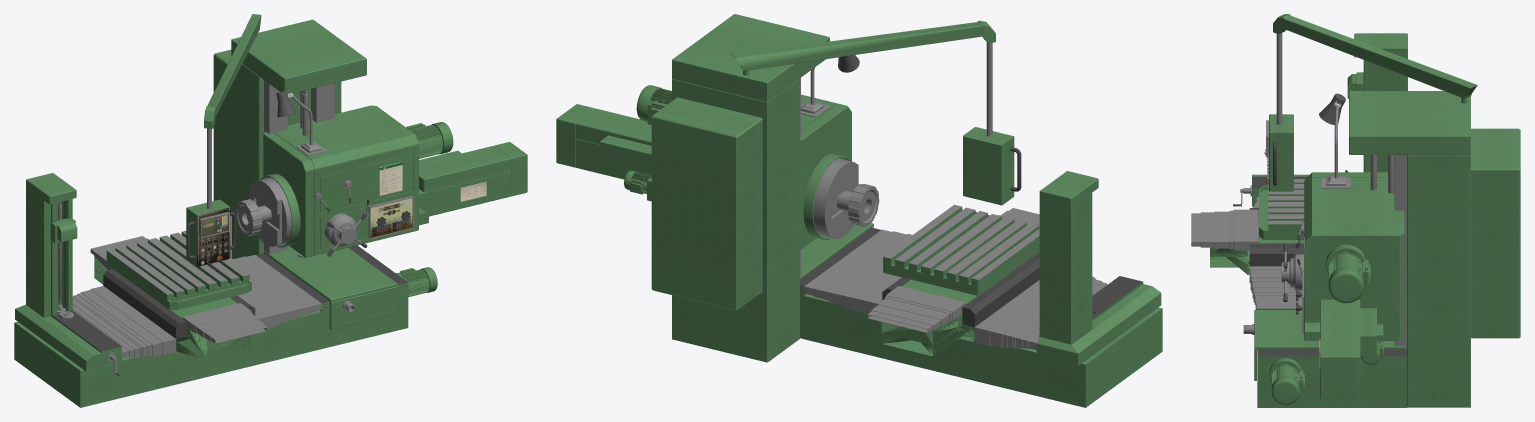
3 renders of one model, left to right at view 1: azimuth 30°, elevation 25°; view 2: azimuth 150°, elevation 25°; view 3: azimuth 270°, elevation 25°, orthographic. The views are drawn at different scales.
Parts seen in each view (by area): view 1: Box23, Box16, Box02, Box14, Box26, Box04, Box03, Box07, Cylinder28, Box28, Box20, Box12 (+22 smaller); view 2: Box02, Box23, Box14, Box04, Box03, Box12, Box26, Box20, Box16, Cylinder28, Box07, Box06 (+18 smaller); view 3: Box02, Box16, Box23, Box26, Box12, Box14, gongyongdianji04, Box20, Box04, Box28, gongyongdianji004, Box18 (+16 smaller).
Part boxes in pixels (x1,y1,x2,y2): Box23: (14, 245, 408, 407); Box16: (263, 105, 418, 257); Box02: (213, 19, 366, 258); Box14: (106, 230, 251, 309); Box26: (419, 142, 527, 225); Box04: (26, 187, 72, 317); Box03: (15, 304, 121, 371); Box07: (103, 269, 186, 338); Cylinder28: (248, 177, 291, 246); Box28: (264, 80, 334, 254); Box20: (186, 199, 230, 266); Box12: (204, 14, 261, 128); Box02: (651, 14, 829, 362); Box23: (800, 223, 1162, 407); Box14: (883, 204, 1039, 295); Box04: (1039, 193, 1092, 344); Box03: (1036, 276, 1161, 365); Box12: (732, 20, 995, 70); Box26: (556, 104, 651, 179); Box20: (963, 127, 1014, 205); Box16: (800, 94, 851, 248); Cylinder28: (813, 158, 858, 238); Box07: (962, 252, 1039, 327); Box06: (881, 314, 974, 356); Box02: (1349, 91, 1520, 407); Box16: (1304, 172, 1404, 340); Box23: (1254, 308, 1406, 407); Box26: (1305, 299, 1360, 399); Box12: (1273, 14, 1477, 98); Box14: (1259, 179, 1305, 239); gongyongdianji04: (1328, 252, 1370, 303); Box20: (1269, 114, 1293, 191); Box04: (1363, 57, 1407, 172); Box28: (1394, 155, 1406, 347); gongyongdianji004: (1271, 364, 1304, 404); Box18: (1319, 93, 1350, 188).
Size of the model in its own units: 4663 by 2413 by 2472.
